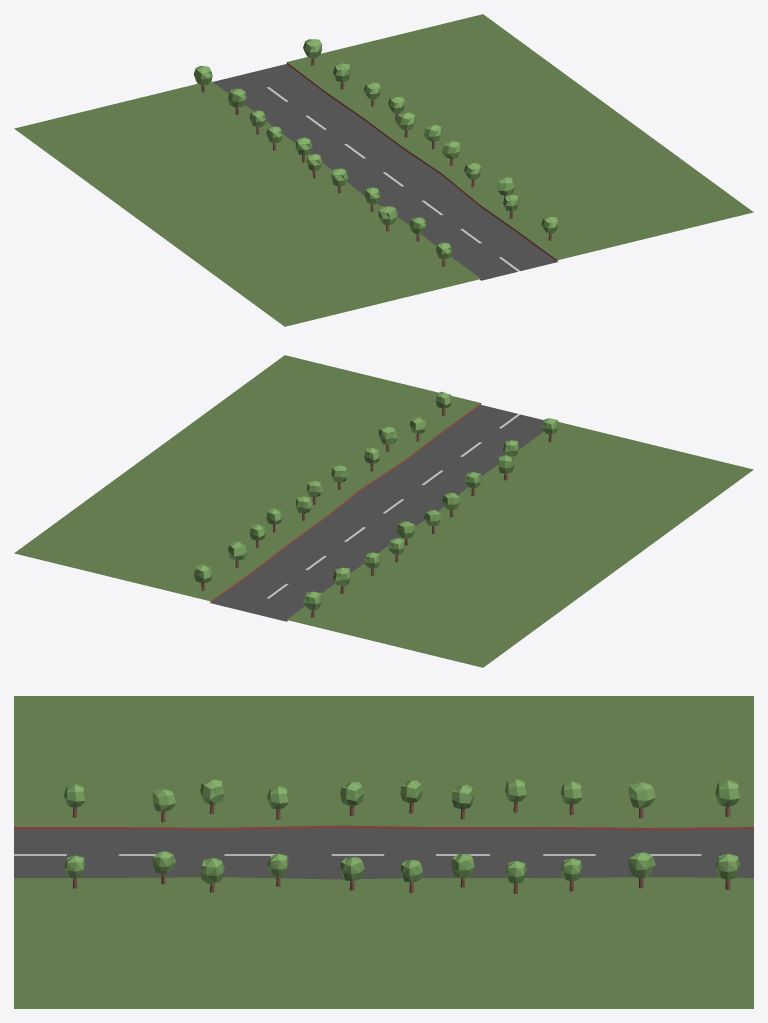
File: level.dae
3 views of the same model, one above another, from view 1: azimuth 30°, elevation 25°; view 2: azimuth 150°, elevation 25°; view 3: azimuth 270°, elevation 25° (orthographic). The views are drawn at different scales.
Visible parts, largest first — view 1: terrain, vegetation; view 2: terrain, vegetation; view 3: terrain, vegetation.
Boxes of the visible parts, x1,y1,x2,y2 form: terrain: (14,14,753,326); vegetation: (194,39,558,266); terrain: (14,355,753,667); vegetation: (194,391,558,617); terrain: (14,696,753,1008); vegetation: (64,778,739,893).
Size of the model in its own units: 80 by 80 by 4.46.
3 materials, 1 textured.
